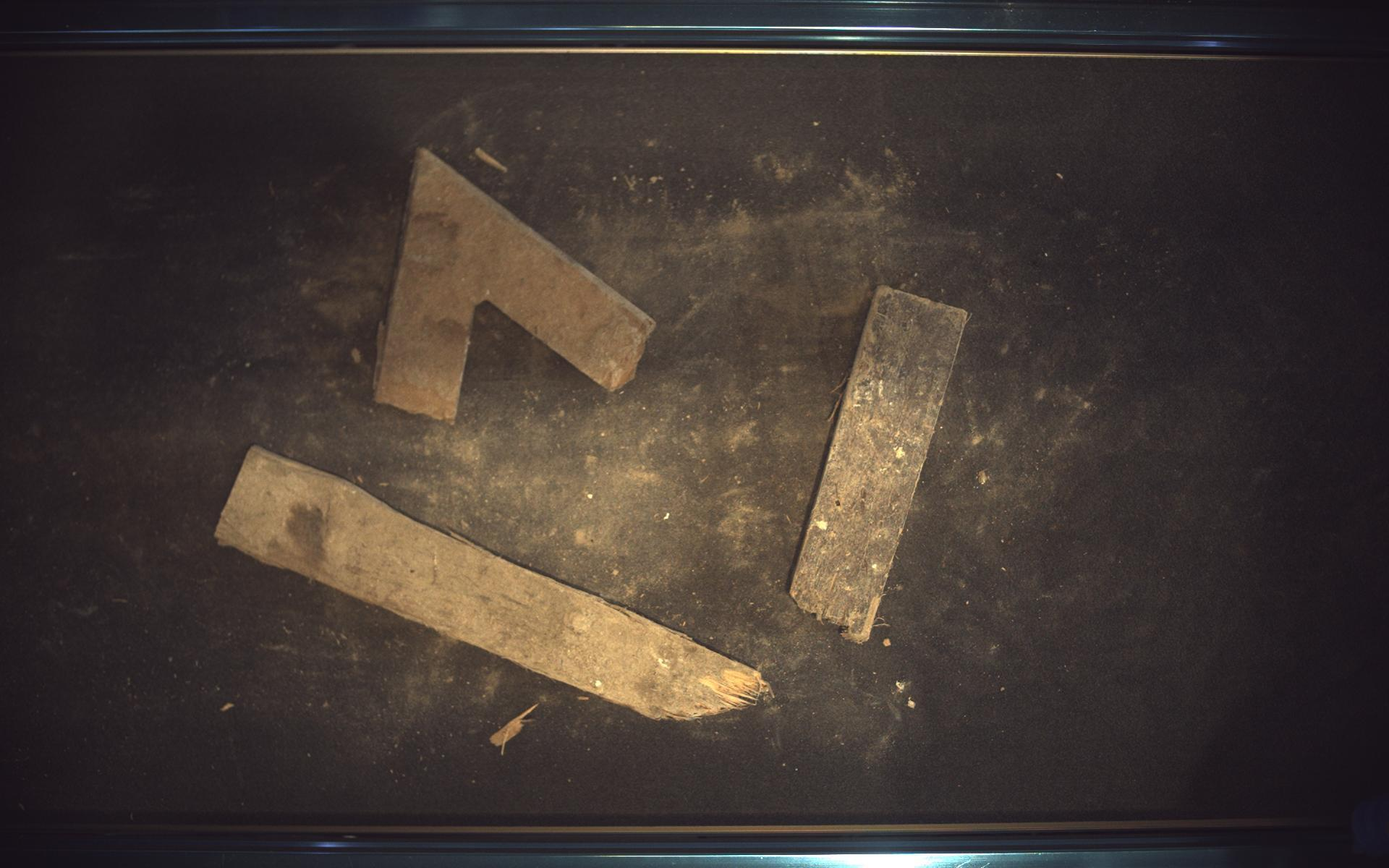wood: (214, 446, 770, 721), (374, 147, 655, 420), (791, 286, 970, 644)
